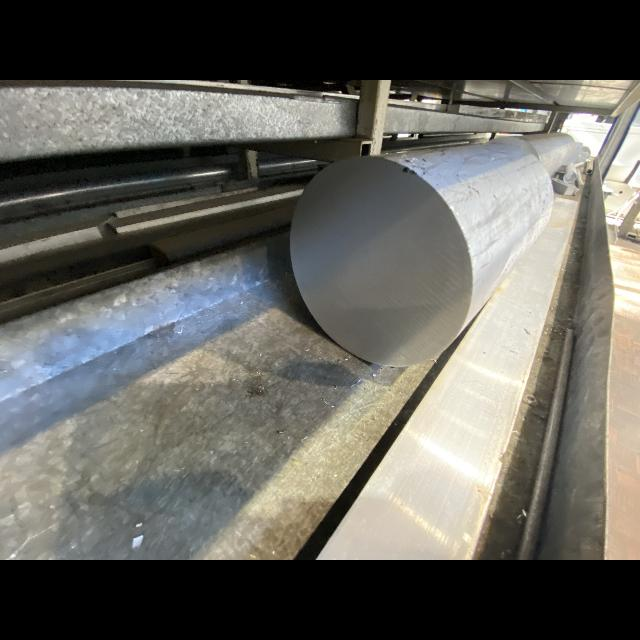Aluminium: (316, 197, 580, 560), (291, 142, 555, 365), (489, 132, 575, 175)
